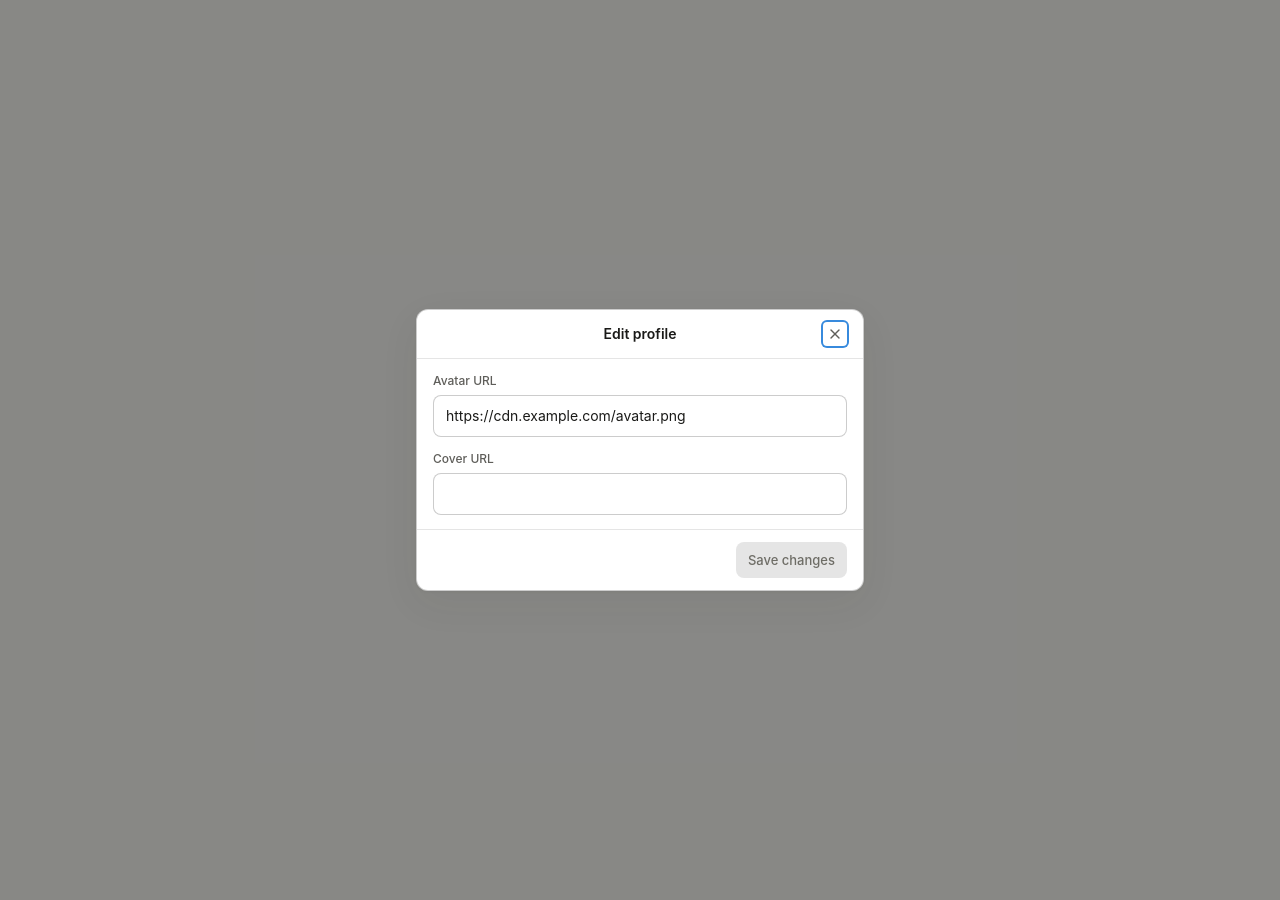
Test: EditProfileModal › Save is disabled until a field actually changes
The width and height of the screenshot is (1280, 900).
Expected: the button "Save changes" is disabled, [736,542,847,578]
Type "x" into the field labelled "Cover URL". click: [640, 494]
box: [433,473,847,515]
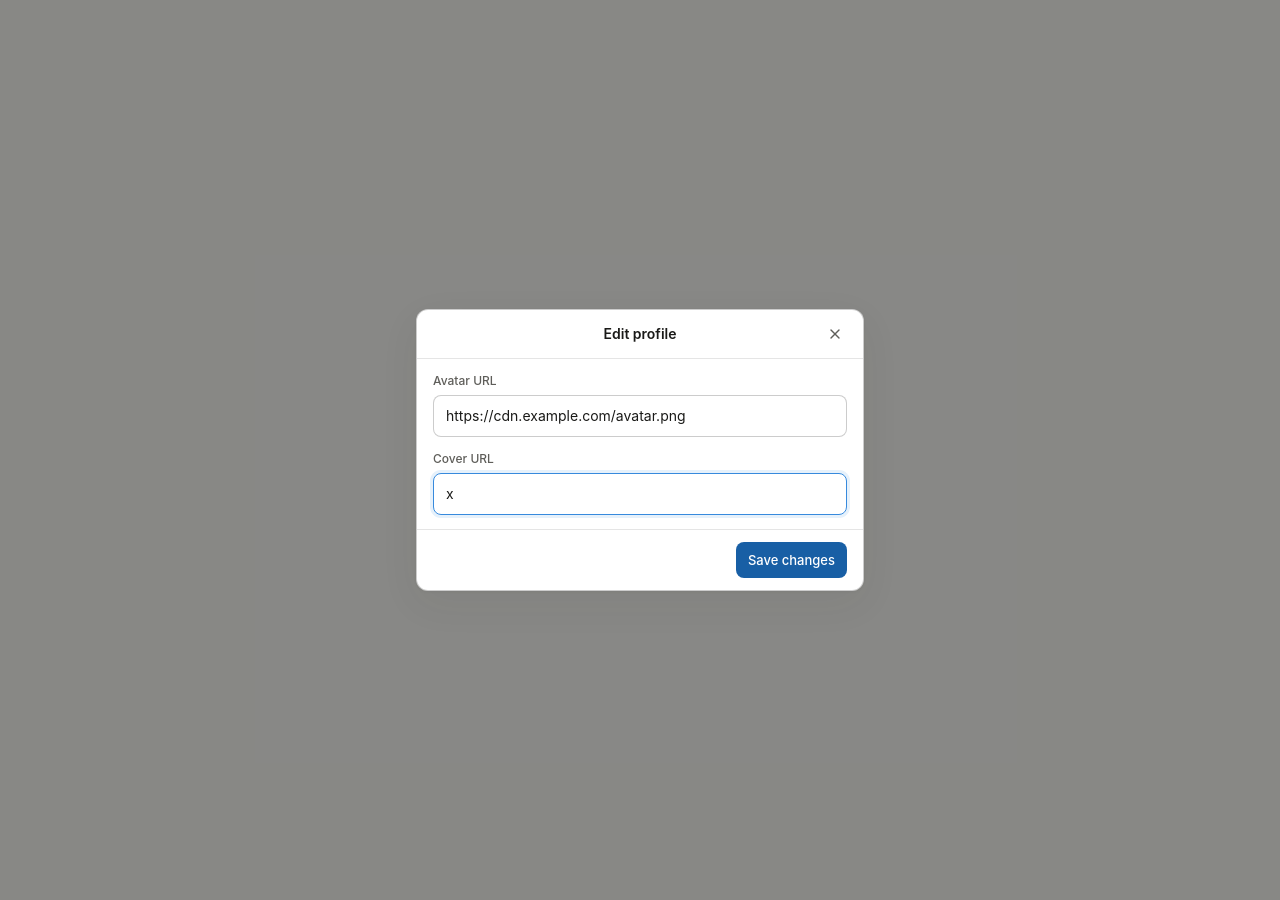
Expected: the button "Save changes" is enabled, [736,542,847,578]
